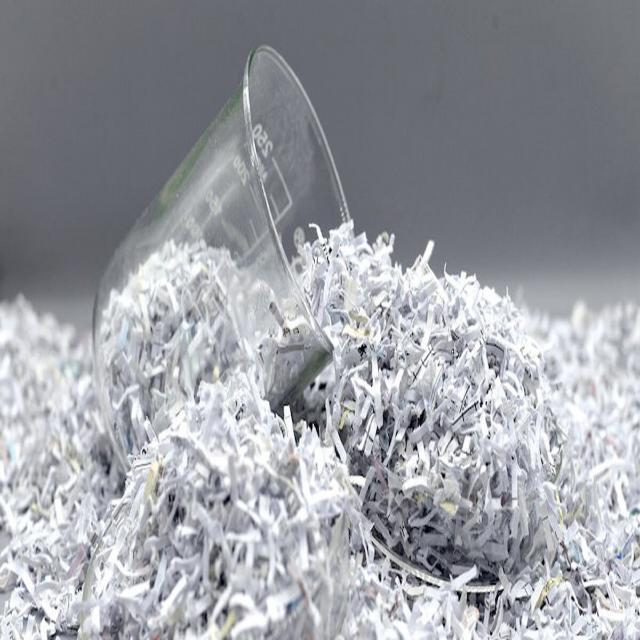Paper -Biodegradable-: (0, 247, 640, 640), (104, 224, 330, 473)
